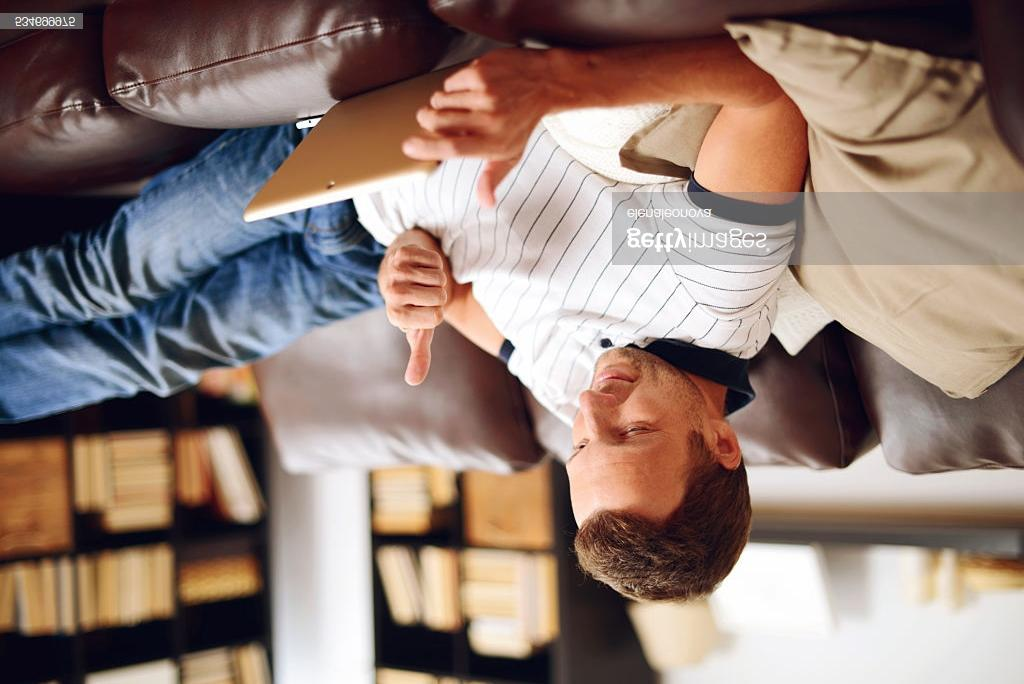thumbsdown: (385, 243, 448, 386)
